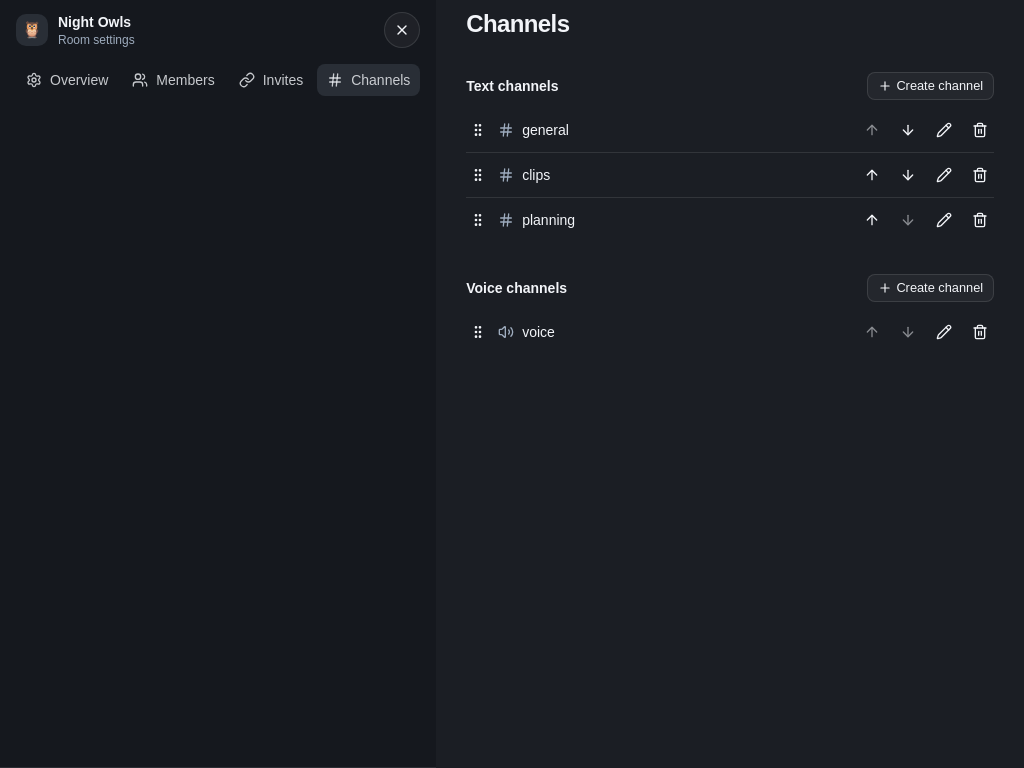
DeleteChannelDialog in Room settings › deleting the last voice channel: toasts, shows the empty state and focuses Create channel
What coordinates should you click on to do the following:
click the button named "Delete voice"
I would click on:
 (980, 332)
Its box is [966, 318, 994, 346].
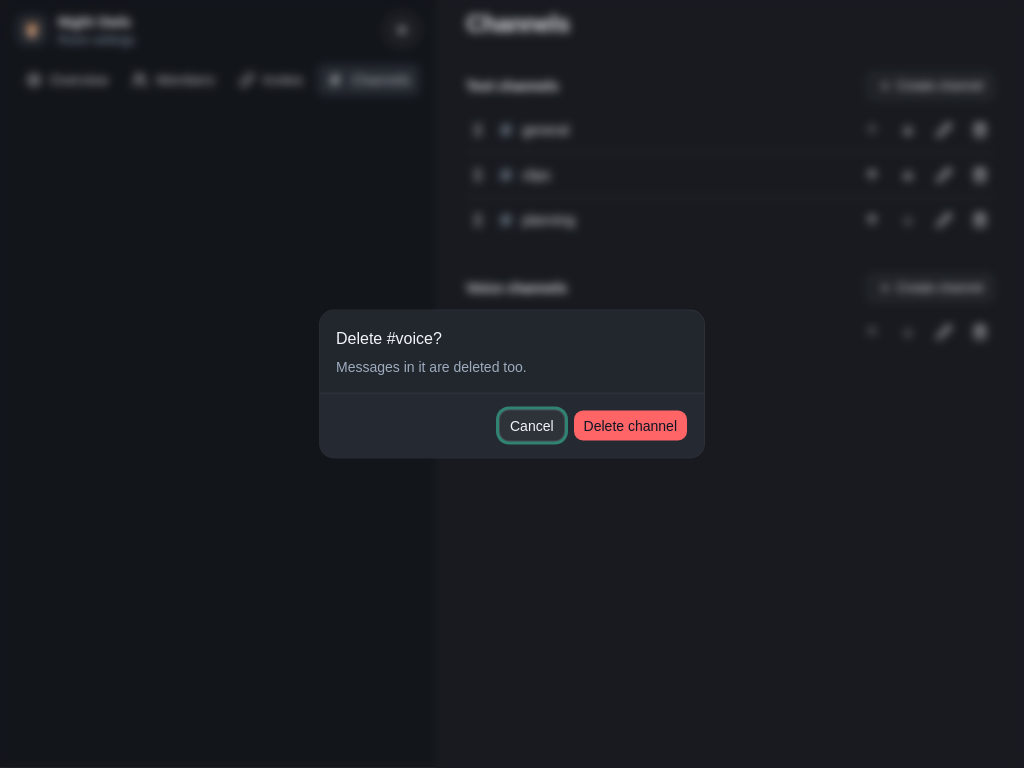
What coordinates should you click on to do the following:
click the button "Delete channel"
I would click on:
 (630, 426)
Its box is [573, 410, 688, 442].
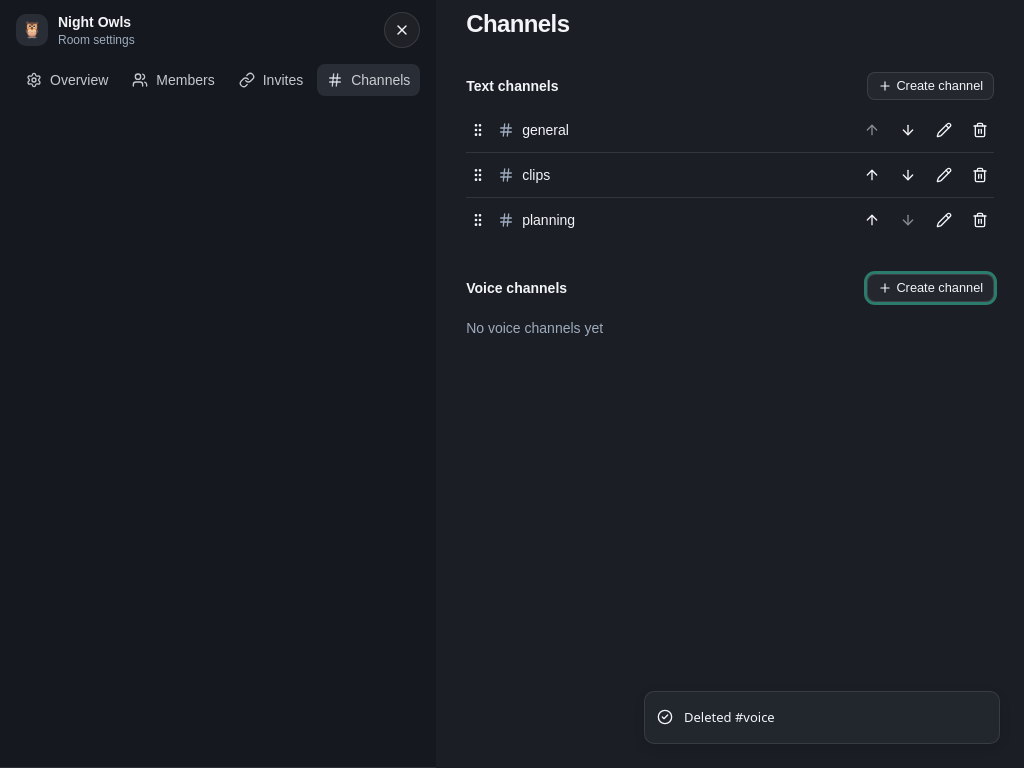
Result: the dialog is gone
Result: the text "No voice channels yet" is shown at [466, 320, 603, 336]
